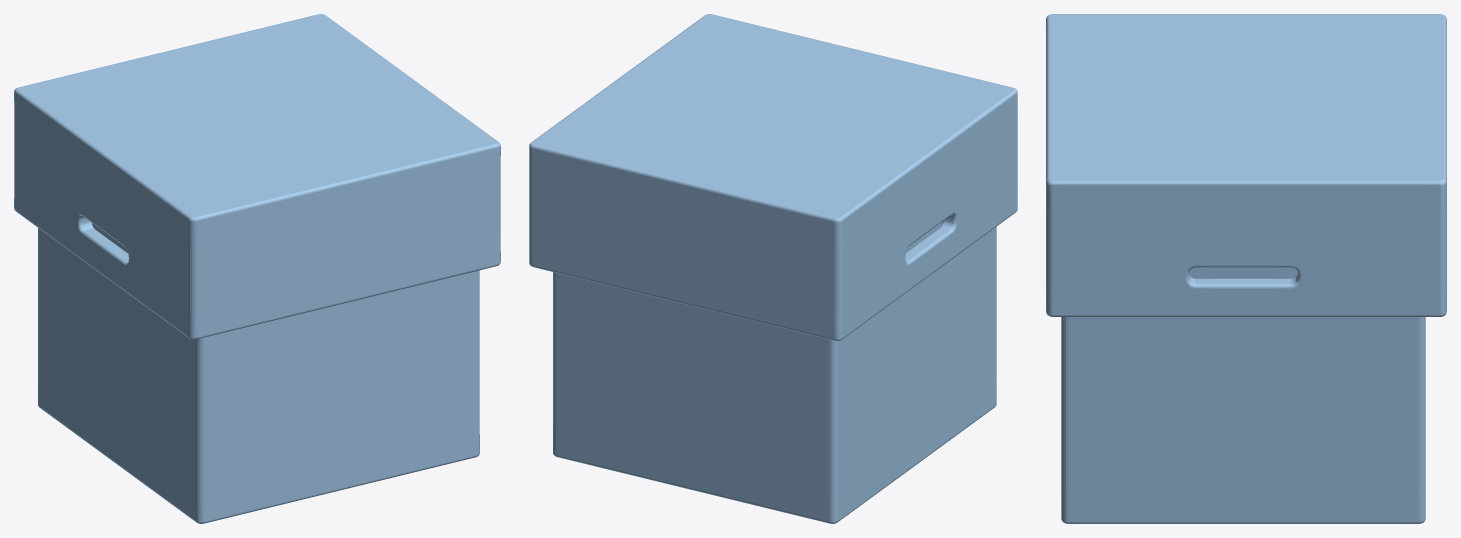
File: Itembox.fbx
3 views of the same model, side by side, from view 1: azimuth 30°, elevation 25°; view 2: azimuth 150°, elevation 25°; view 3: azimuth 270°, elevation 25° (orthographic). The views are drawn at different scales.
Parts seen in each view (by area): view 1: 개체_1, 개체_2; view 2: 개체_1, 개체_2; view 3: 개체_1, 개체_2.
Part boxes in pixels (left/top/right/bottom): 개체_1: left=14, top=14, right=500, bottom=339; 개체_2: left=38, top=223, right=479, bottom=523; 개체_1: left=529, top=14, right=1017, bottom=340; 개체_2: left=553, top=222, right=996, bottom=523; 개체_1: left=1046, top=14, right=1446, bottom=316; 개체_2: left=1061, top=267, right=1425, bottom=523.
Size of the model in its own units: 220 by 213 by 220.
